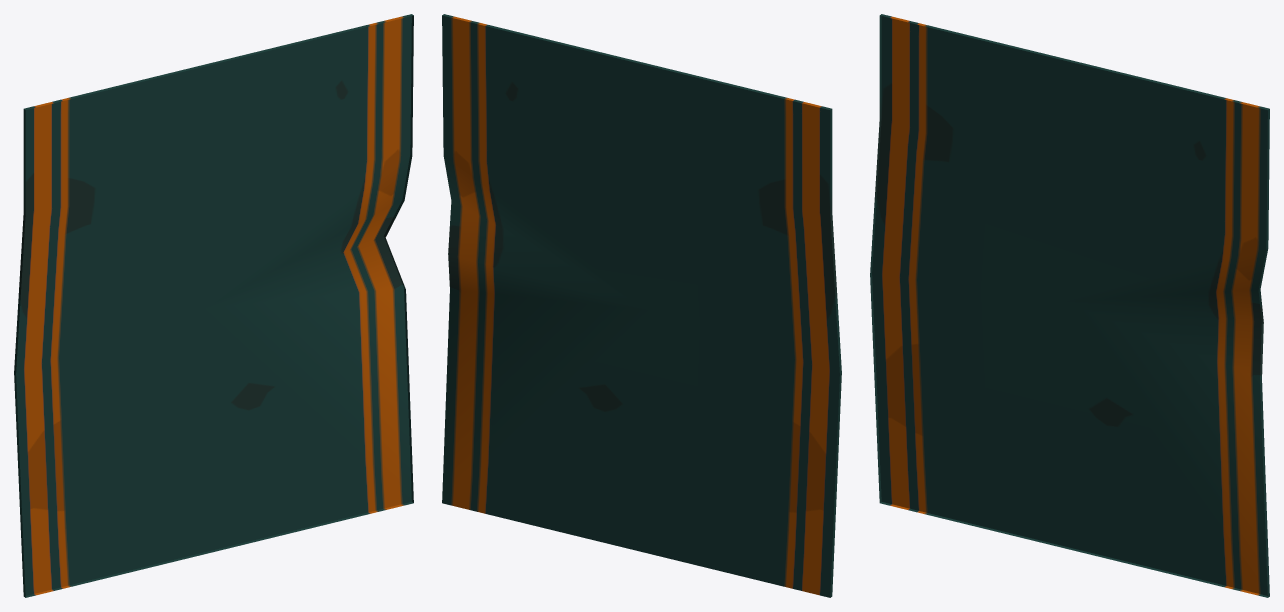
Rendered from Carpet 01 Center 03.FBX.
The picture shows the model from 3 angles, left to right: view 1: azimuth 30°, elevation 25°; view 2: azimuth 150°, elevation 25°; view 3: azimuth 330°, elevation 25°; orthographic projection.
Visible parts, largest first — view 1: Carpet 01 Center 03; view 2: Carpet 01 Center 03; view 3: Carpet 01 Center 03.
Part boxes in pixels (x1,y1,x2,y2): Carpet 01 Center 03: [14, 14, 413, 597]; Carpet 01 Center 03: [442, 14, 841, 597]; Carpet 01 Center 03: [870, 14, 1269, 597].
Size of the model in its own units: 171 by 200 by 9.74.
